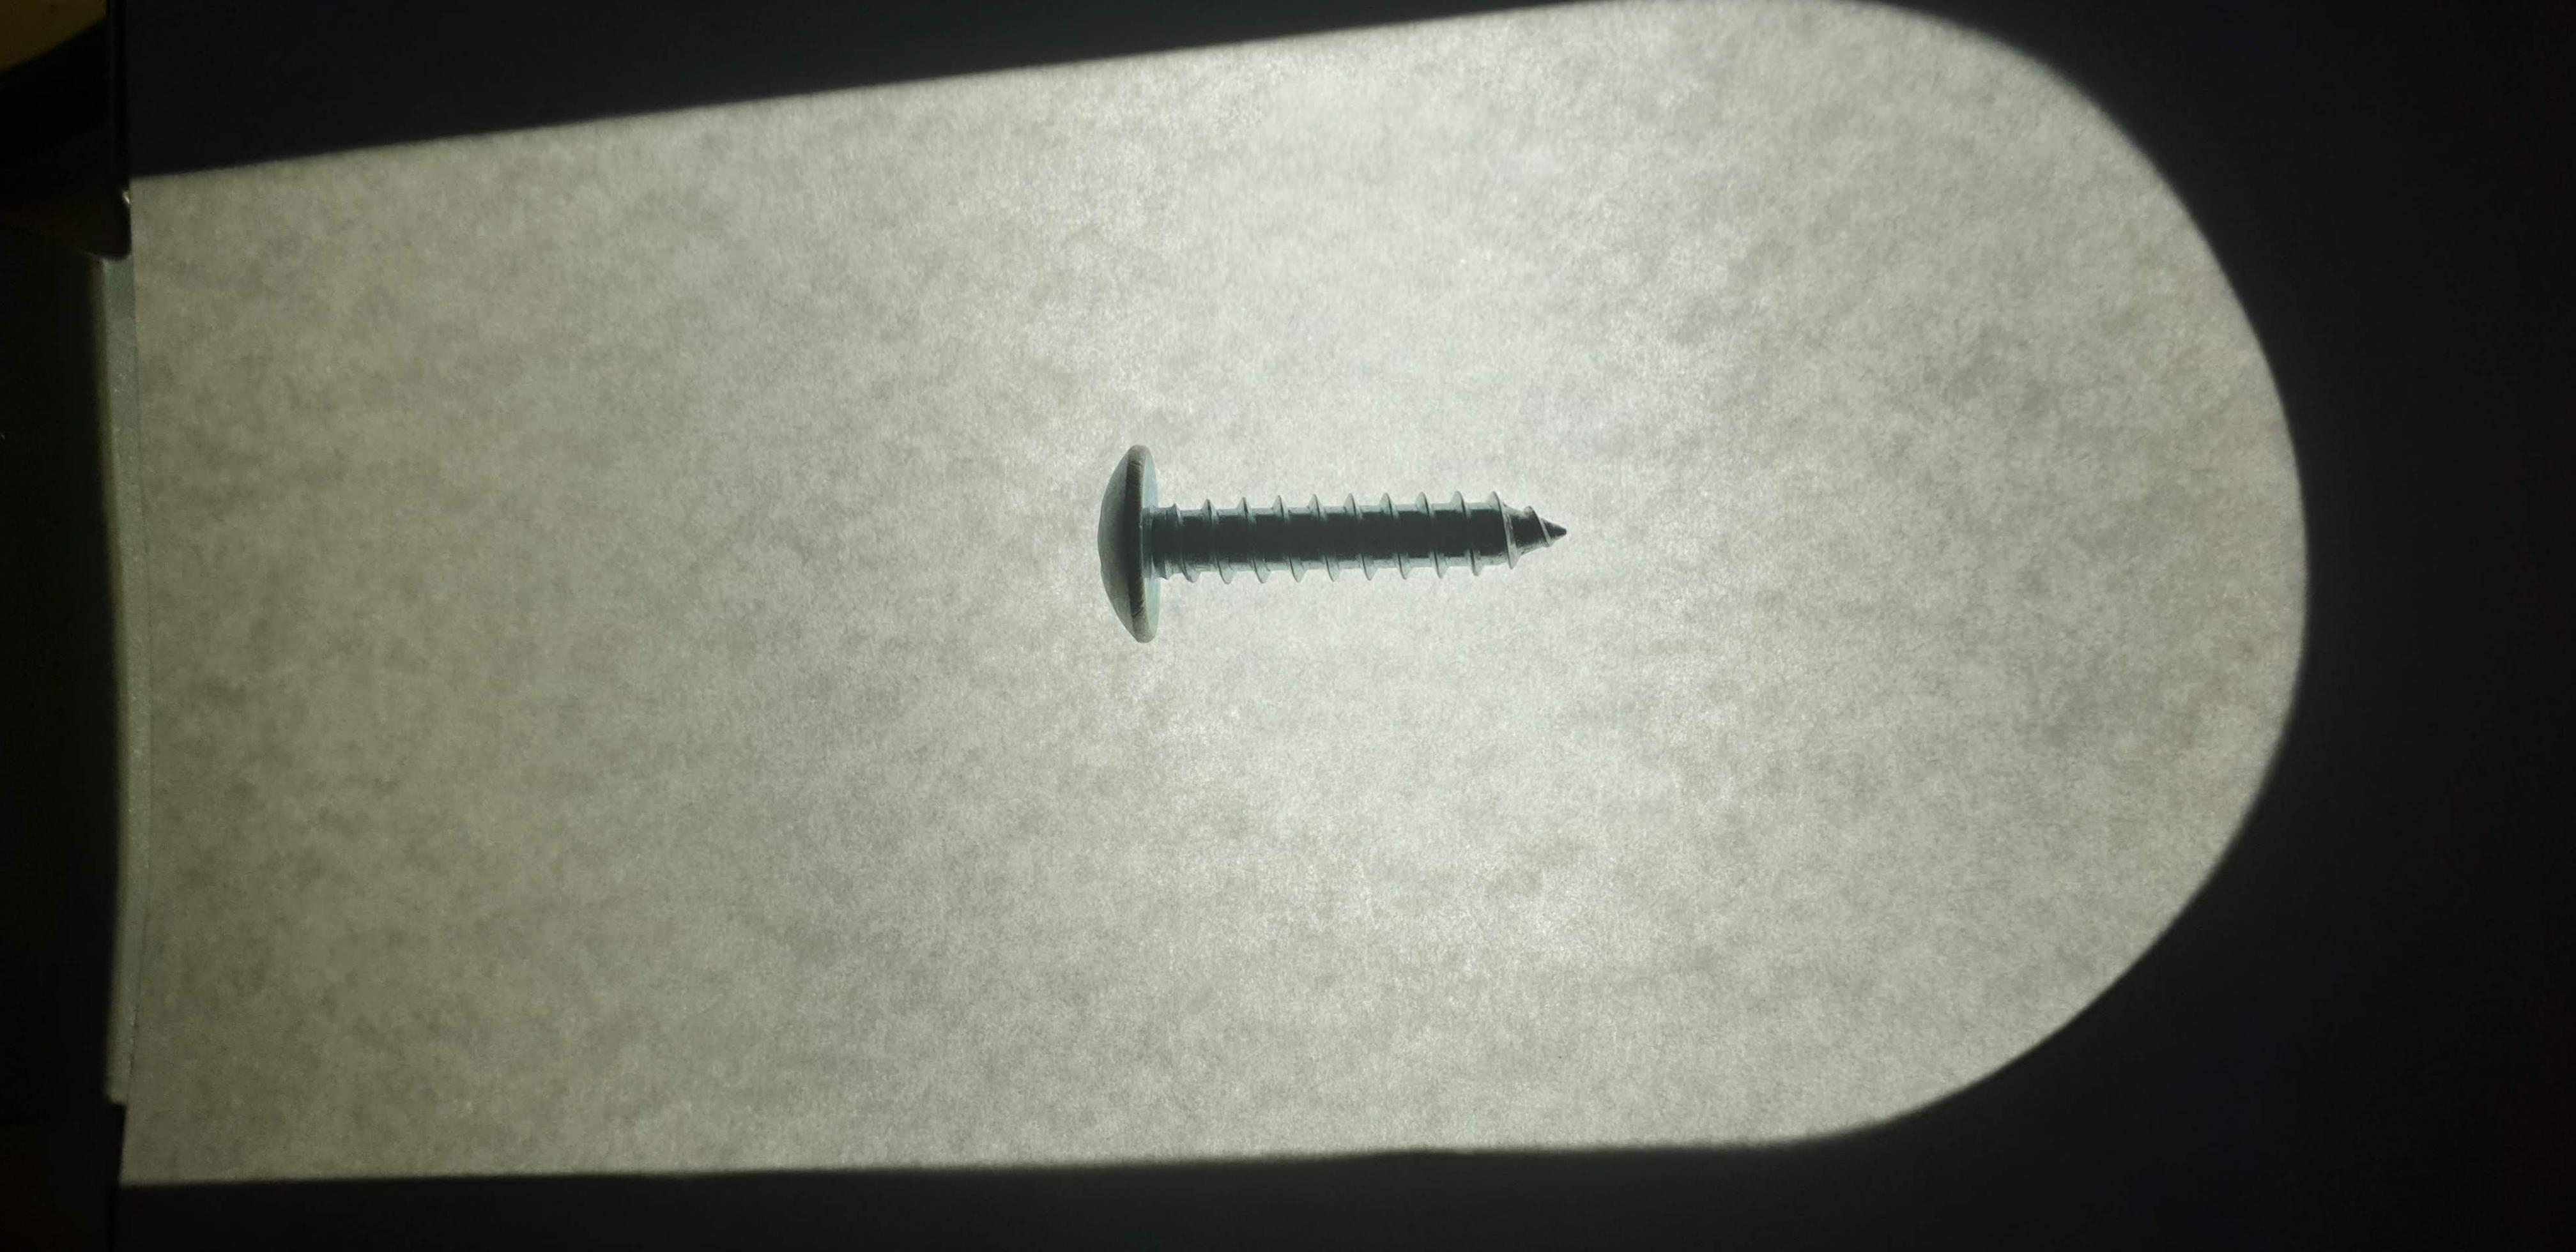S002: (1060, 406, 1605, 661)
